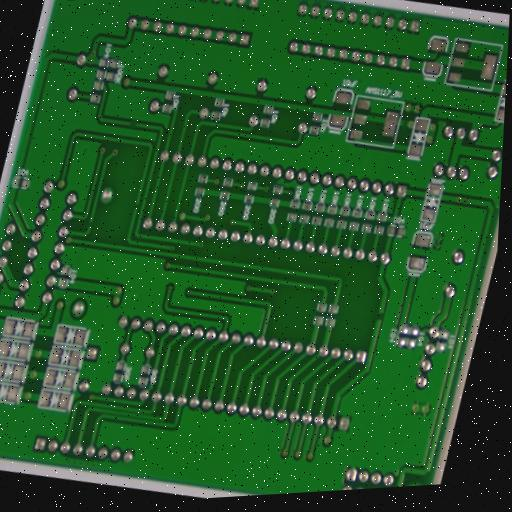open_circuit: (374, 308, 385, 326), (399, 116, 410, 131), (127, 118, 139, 130), (132, 200, 142, 212), (86, 219, 95, 230)
